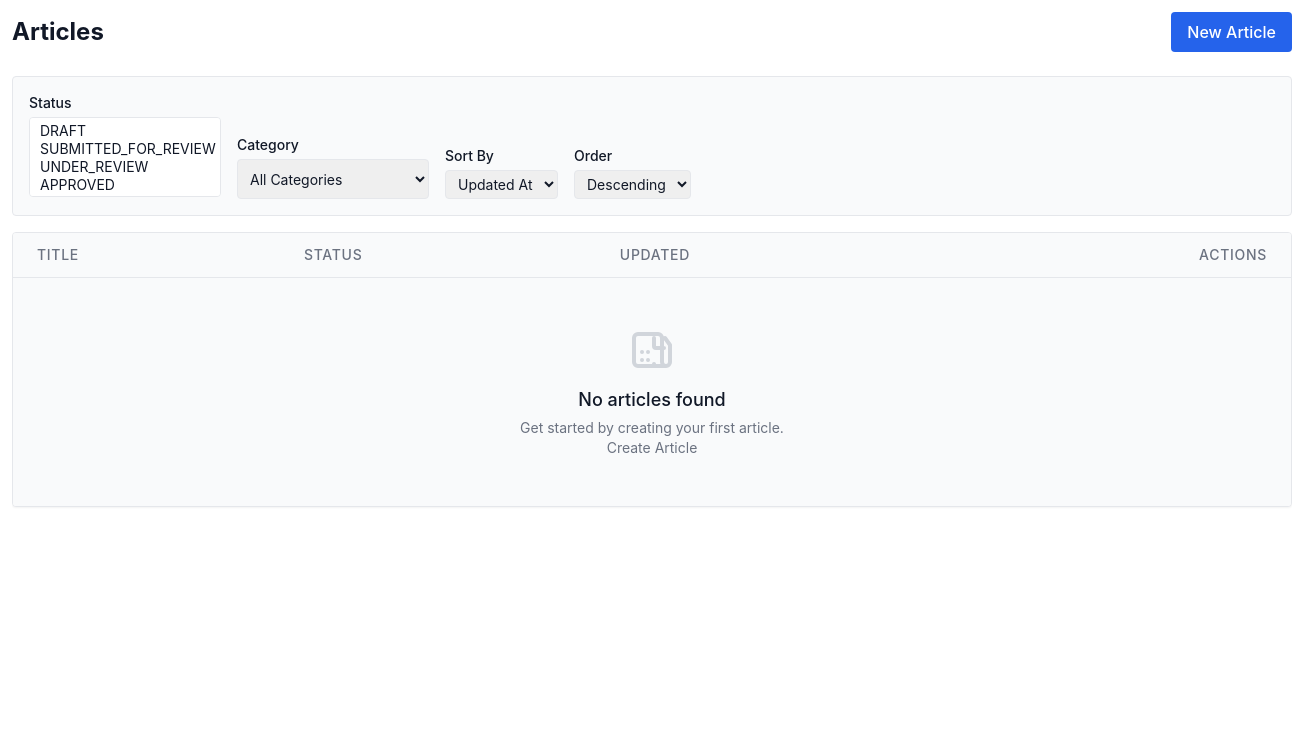
it: ArticleList › shows filtered empty state when filters are applied
The image size is (1304, 732).
Select "PUBLISHED" in the dropdown labelled "Status". click: (125, 157)
box: [29,117,221,197]
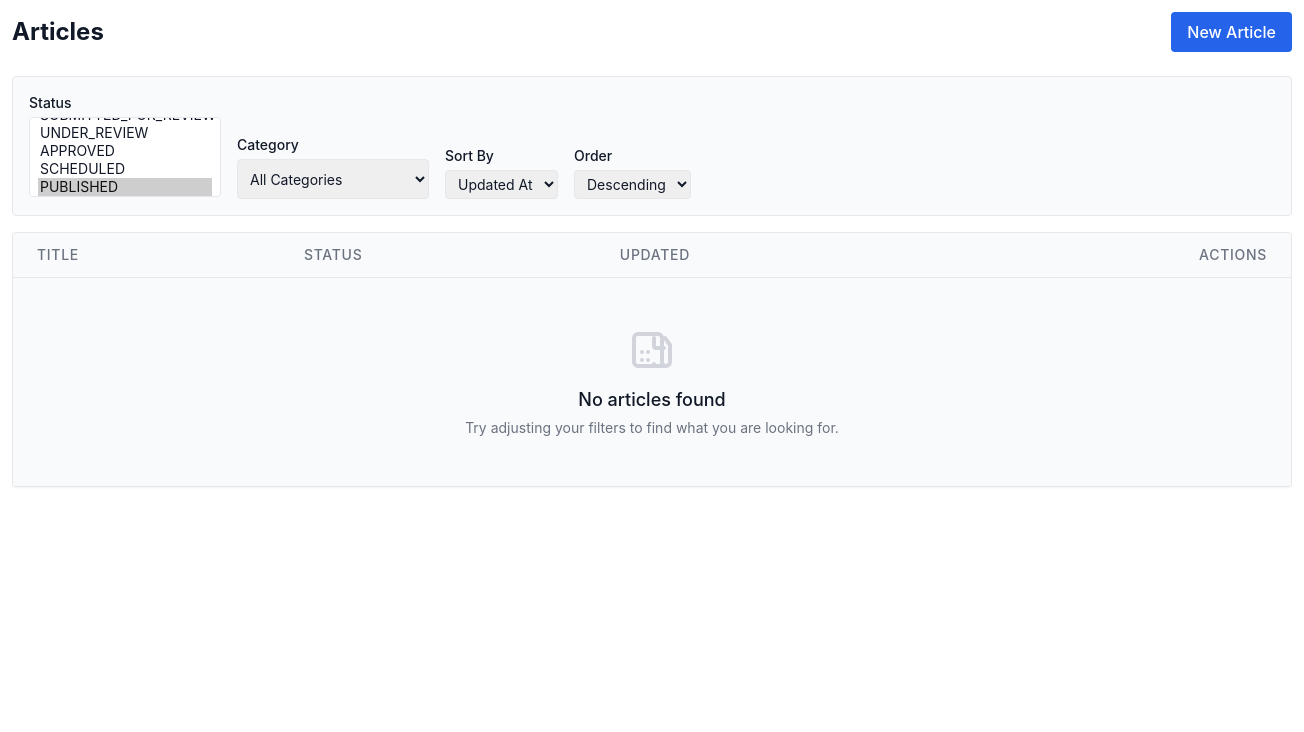
expect the text "Try adjusting your filters to find what you are looking for." is shown: met, box [465,418,839,438]
